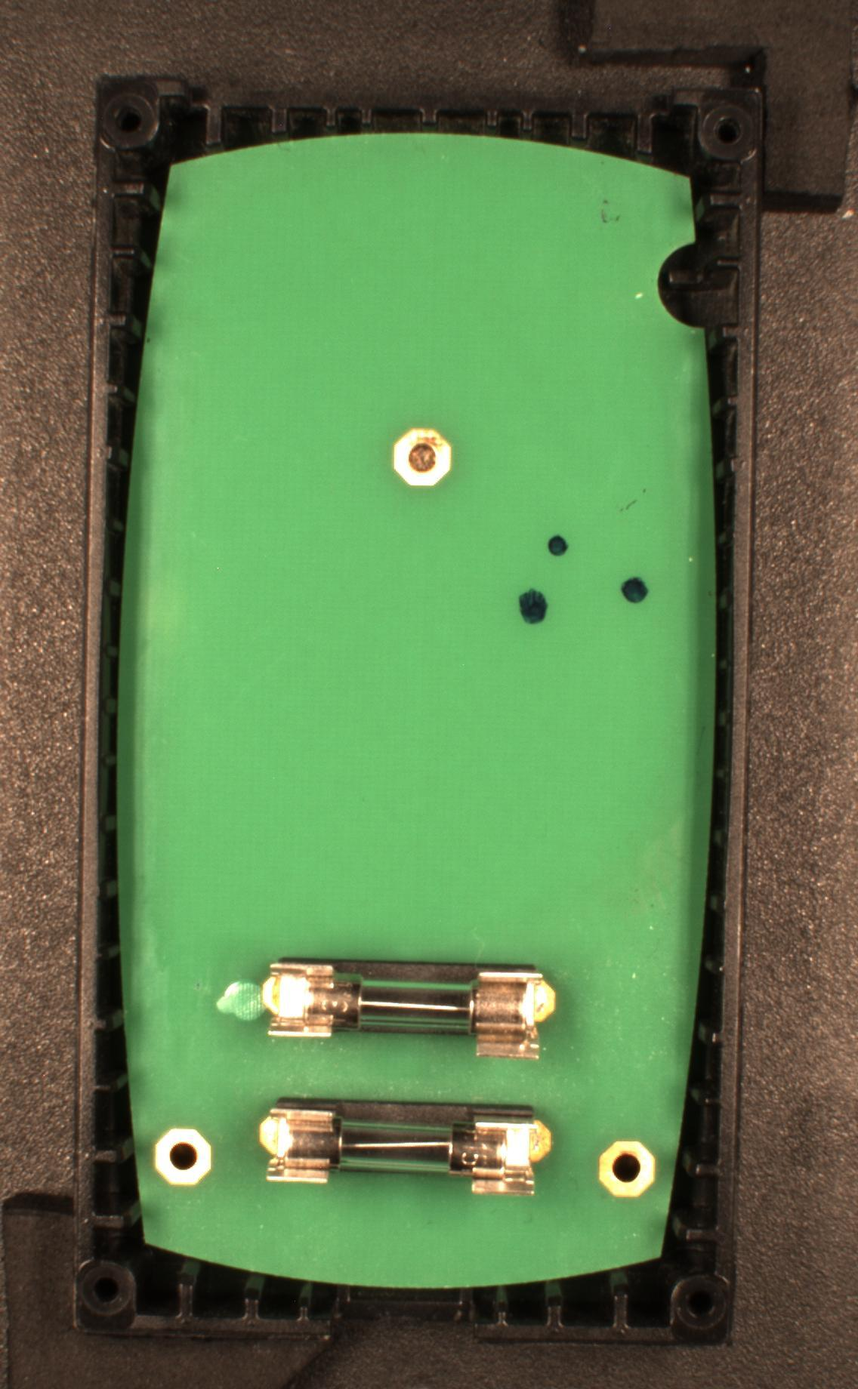Tockasto Ostecenje: (516, 588, 550, 625), (620, 576, 650, 605), (547, 535, 569, 556)
